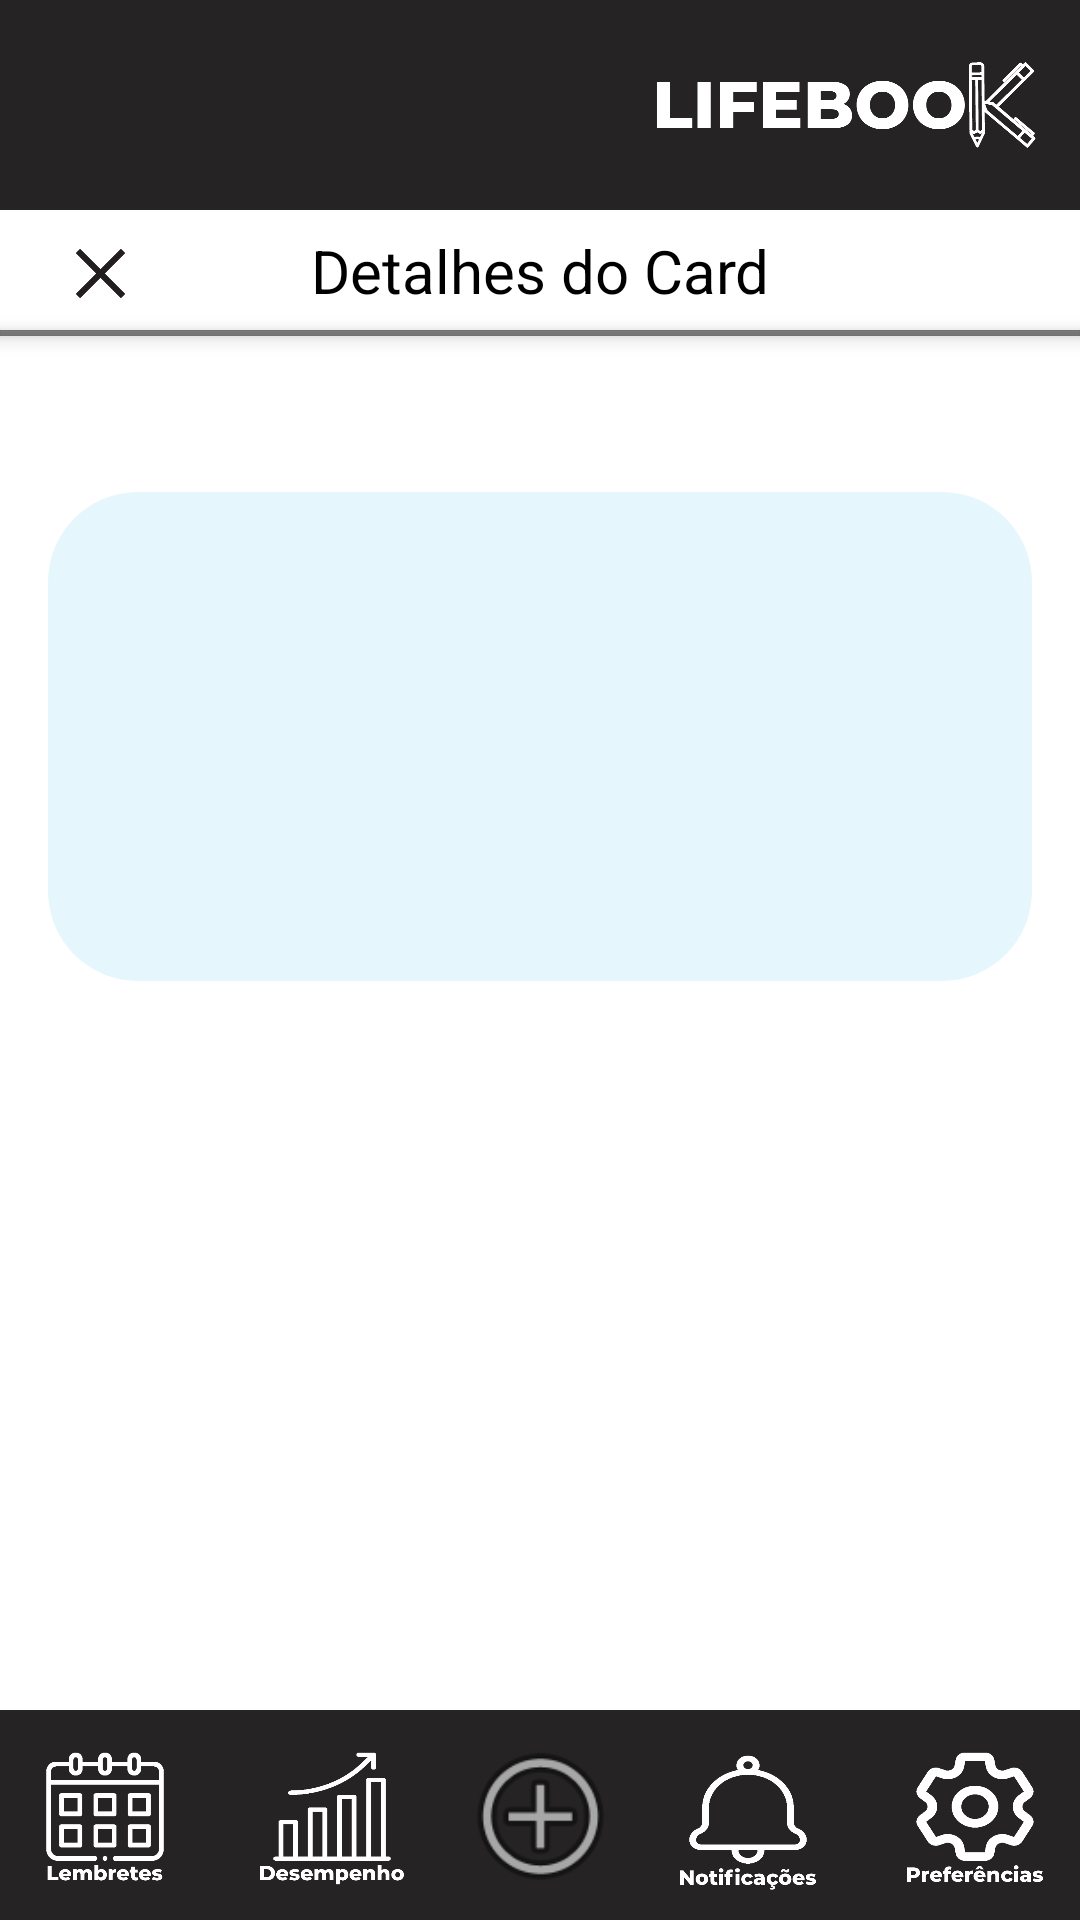

Screen size 1080*1920. Icon name, then its center in pixels as [x,y]:
add: [540,1816]
close: [100,273]
